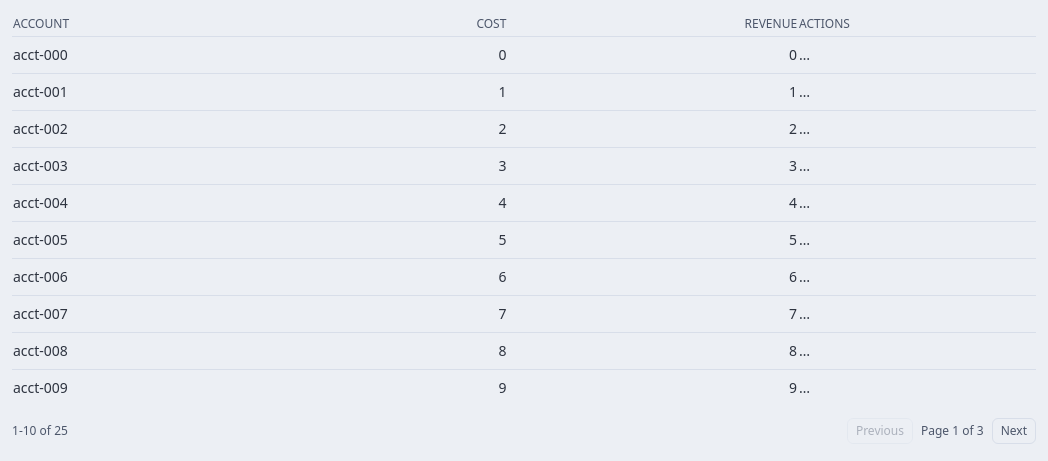
Test: <DataTable /> › paginates, and Previous/Next stop at the first and last page
Expected: the text "Page 1 of 3" is shown, top-left (921, 423), bottom-right (984, 439)
Expected: the text "1-10 of 25" is shown, top-left (12, 423), bottom-right (68, 439)
Click the button "Next" at [1014, 431], box top-left (992, 418), bottom-right (1036, 444)
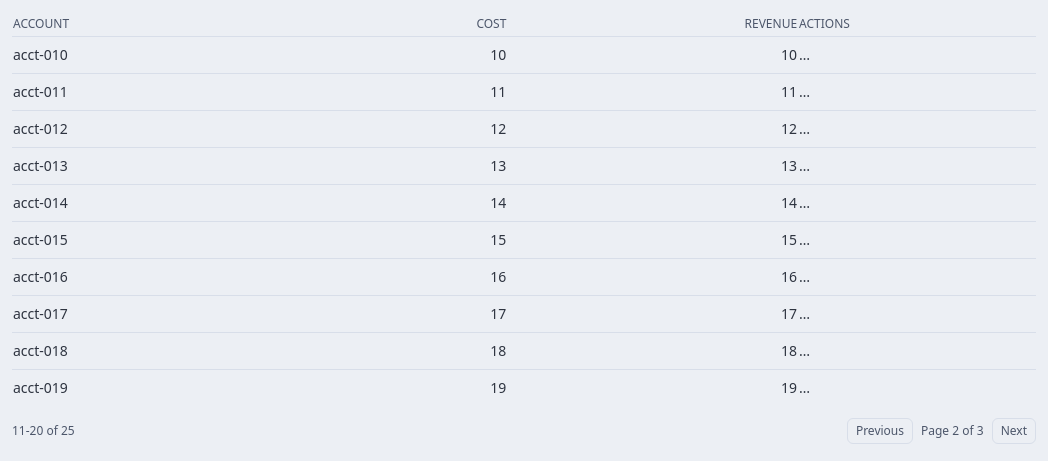
Expected: the cell "acct-010" is shown, top-left (12, 36), bottom-right (318, 74)
Expected: the text "11-20 of 25" is shown, top-left (12, 423), bottom-right (75, 439)
Expected: the button "Previous" is enabled, top-left (847, 418), bottom-right (913, 444)
# Last page holds the 5-row remainder and Next goes dead.
Click the button "Next" at [1014, 431], box top-left (992, 418), bottom-right (1036, 444)
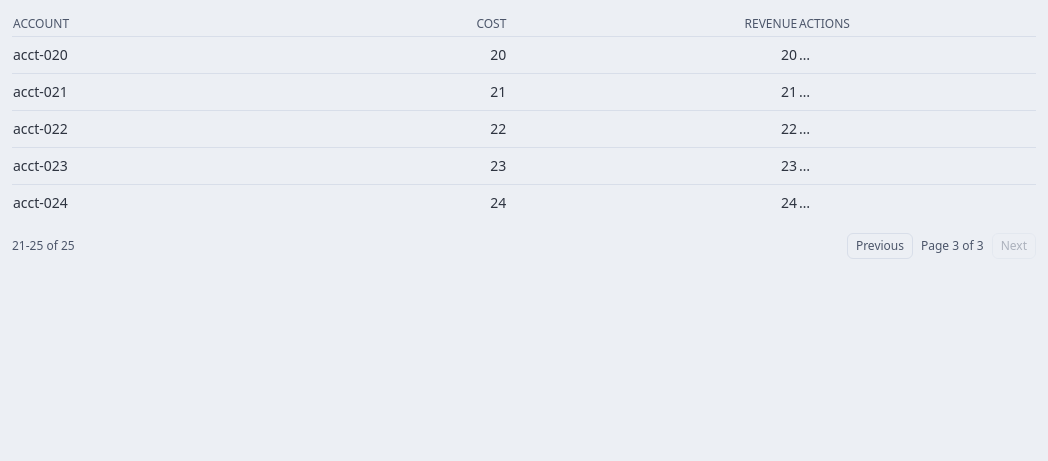
Expected: the text "21-25 of 25" is shown, top-left (12, 238), bottom-right (75, 254)
Expected: the button "Next" is disabled, top-left (992, 233), bottom-right (1036, 259)
Click the button "Previous" at [880, 246], box top-left (847, 233), bottom-right (913, 259)
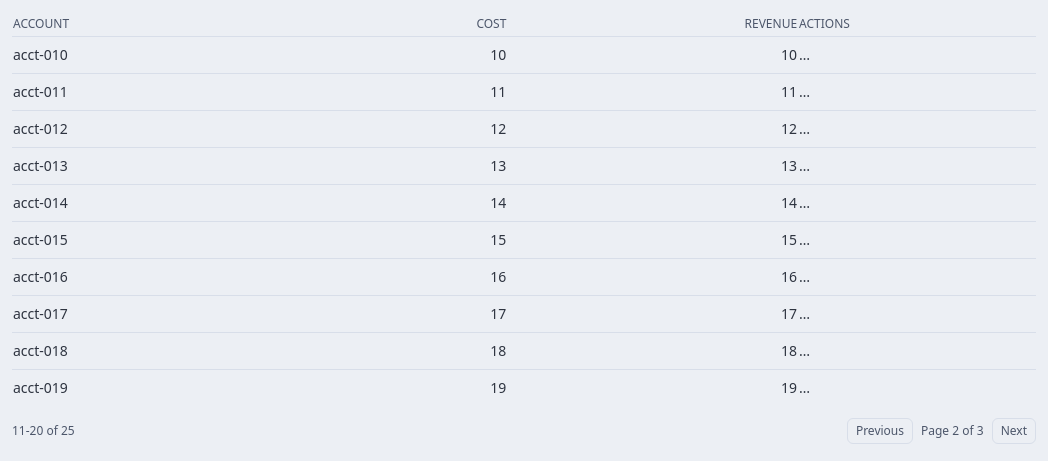
Expected: the text "Page 2 of 3" is shown, top-left (921, 423), bottom-right (984, 439)
